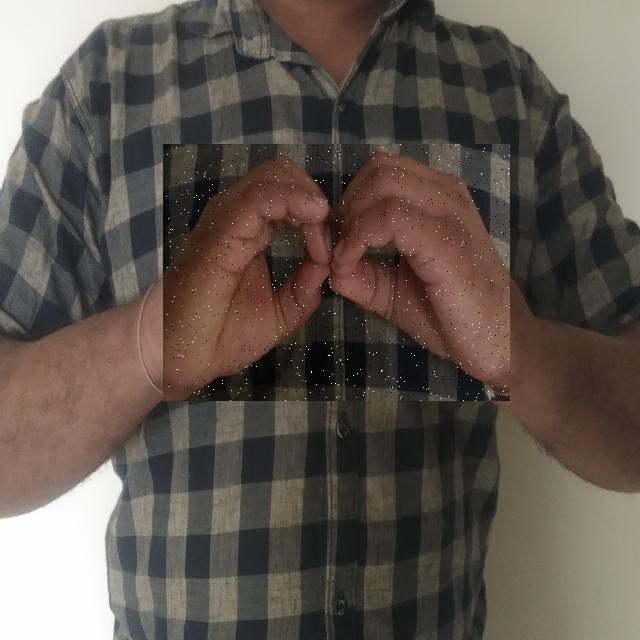B: (163, 144, 510, 401)
